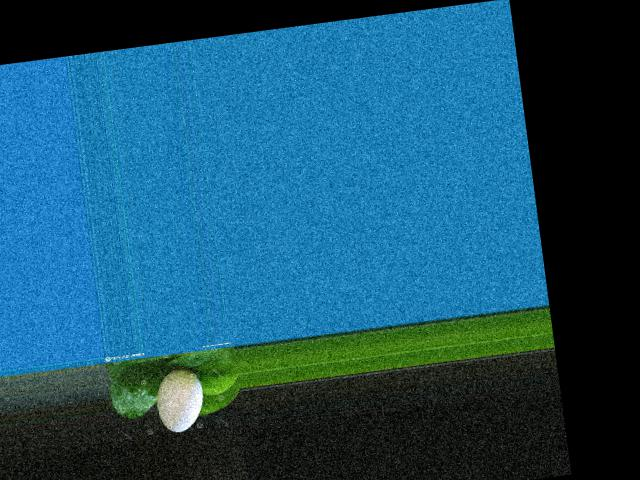egg: (153, 366, 207, 434)
